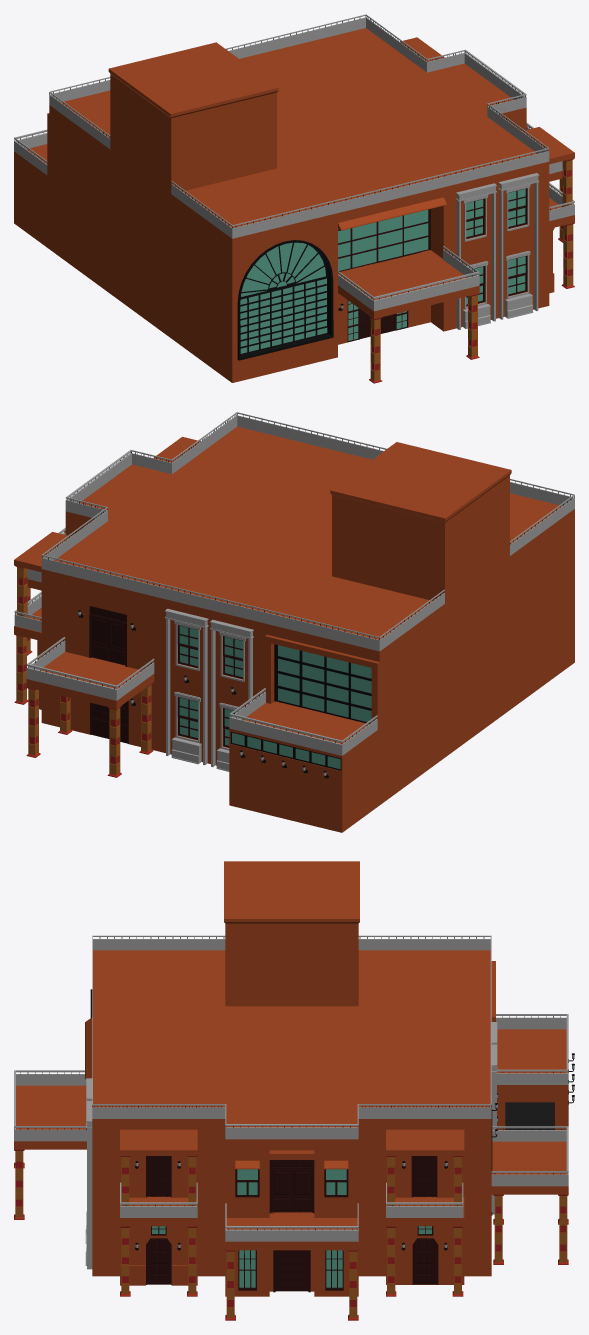
The model's file is Residence.obj.
The picture shows the model from 3 angles, top to bottom: view 1: azimuth 30°, elevation 25°; view 2: azimuth 150°, elevation 25°; view 3: azimuth 270°, elevation 25°; orthographic projection. The views are drawn at different scales.
Parts seen in each view (by area): view 1: FirstFloor_Cube.001, GroundFloor_Cube, RoofBalconie_Cube.062, BigWindow_Cylinder.008, SlidingDoor_Cube.075, BigWindowWall_Cube.008, WindowSection_Cube.084, Balcony.004_Cube.035, WindowDetail_Cube.055, SideDoor_Cube.076, Windows_Cube.083, WindowExt_Cube.085 (+7 smaller); view 2: FirstFloor_Cube.001, GroundFloor_Cube, RoofBalconie_Cube.062, LargeWindow_Cube.041, DoorSection.001_Cube.092, WindowSection.001_Cube.103, Balcony_Cube.106, Windows.002_Cube.097, Balcony.005_Cube.048, WindowSection.002_Cube.104, SideDoor.002_Cube.091, Windows.001_Cube.096 (+10 smaller); view 3: FirstFloor_Cube.001, GroundFloor_Cube, RoofBalconie_Cube.062, Window.003_Cube.056, Window.004_Cube.058, Door.002_Cube.086, Door.001_Cube.059, FrontBalconyDoor_Cube.046, Balcony.005_Cube.048, Balcony_Cube.106, Balcony.004_Cube.035, Balcony.001_Cube.013 (+18 smaller).
Part boxes in pixels (x1,y1,x2,y2): FirstFloor_Cube.001: [47, 28, 574, 310]; GroundFloor_Cube: [14, 144, 574, 382]; RoofBalconie_Cube.062: [49, 14, 549, 238]; BigWindow_Cylinder.008: [237, 230, 333, 360]; SlidingDoor_Cube.075: [338, 209, 430, 271]; BigWindowWall_Cube.008: [232, 228, 337, 382]; WindowSection_Cube.084: [443, 177, 549, 256]; Balcony.004_Cube.035: [338, 246, 479, 311]; WindowDetail_Cube.055: [462, 251, 533, 328]; SideDoor_Cube.076: [338, 293, 430, 344]; Windows_Cube.083: [463, 184, 530, 241]; WindowExt_Cube.085: [498, 173, 539, 319]; FirstFloor_Cube.001: [14, 426, 574, 729]; GroundFloor_Cube: [14, 579, 574, 832]; RoofBalconie_Cube.062: [41, 412, 574, 651]; LargeWindow_Cube.041: [274, 644, 371, 723]; DoorSection.001_Cube.092: [41, 585, 154, 670]; WindowSection.001_Cube.103: [154, 613, 264, 697]; Balcony_Cube.106: [229, 688, 377, 755]; Windows.002_Cube.097: [171, 692, 241, 771]; Balcony.005_Cube.048: [26, 637, 154, 700]; WindowSection.002_Cube.104: [154, 681, 246, 765]; SideDoor.002_Cube.091: [89, 597, 126, 666]; Windows.001_Cube.096: [174, 621, 245, 681]; FirstFloor_Cube.001: [85, 861, 495, 1197]; GroundFloor_Cube: [14, 1029, 568, 1296]; RoofBalconie_Cube.062: [92, 935, 491, 1139]; Window.003_Cube.056: [314, 1156, 358, 1217]; Window.004_Cube.058: [225, 1156, 269, 1217]; Door.002_Cube.086: [386, 1156, 464, 1197]; Door.001_Cube.059: [120, 1156, 197, 1197]; FrontBalconyDoor_Cube.046: [269, 1159, 314, 1213]; Balcony.005_Cube.048: [491, 1126, 568, 1186]; Balcony_Cube.106: [496, 1014, 568, 1084]; Balcony.004_Cube.035: [14, 1070, 86, 1141]; Balcony.001_Cube.013: [225, 1203, 358, 1241].
Bounding box in the file's own units: 12.57 × 6.74 × 13.95.
